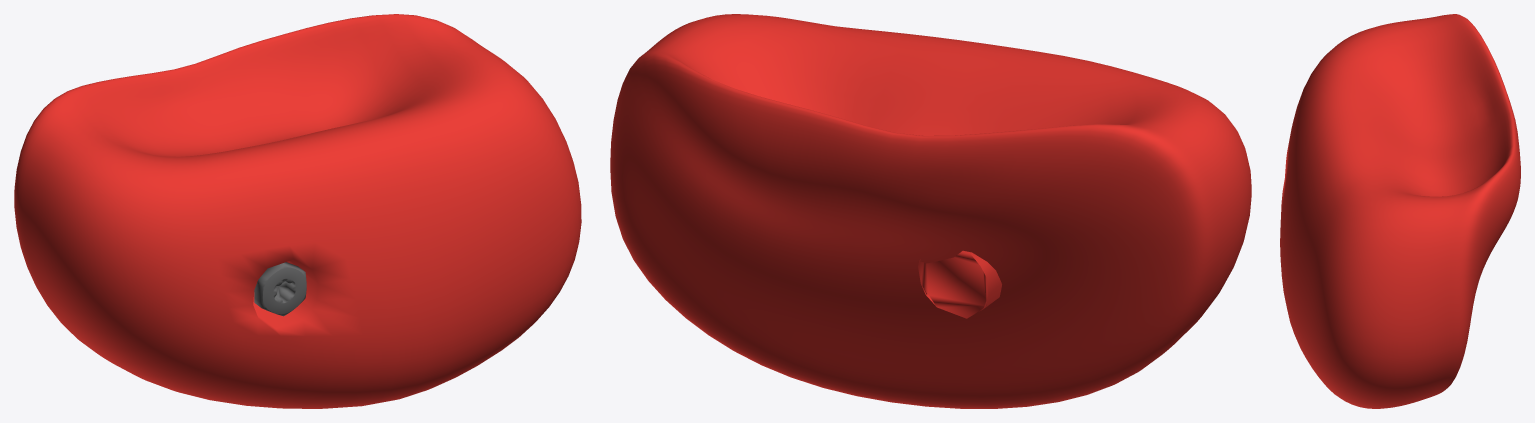
File: Presa.glb
3 renders of one model, left to right at view 1: azimuth 30°, elevation 25°; view 2: azimuth 150°, elevation 25°; view 3: azimuth 270°, elevation 25°, orthographic. The views are drawn at different scales.
Visible parts, largest first — view 1: Presa1; view 2: Presa1; view 3: Presa1.
Part boxes in pixels (left/top/right/bottom): Presa1: left=14, top=14, right=581, bottom=408; Presa1: left=610, top=14, right=1251, bottom=408; Presa1: left=1280, top=14, right=1520, bottom=408.
Bounding box in the file's own units: 1.98 × 1.14 × 0.9676.
